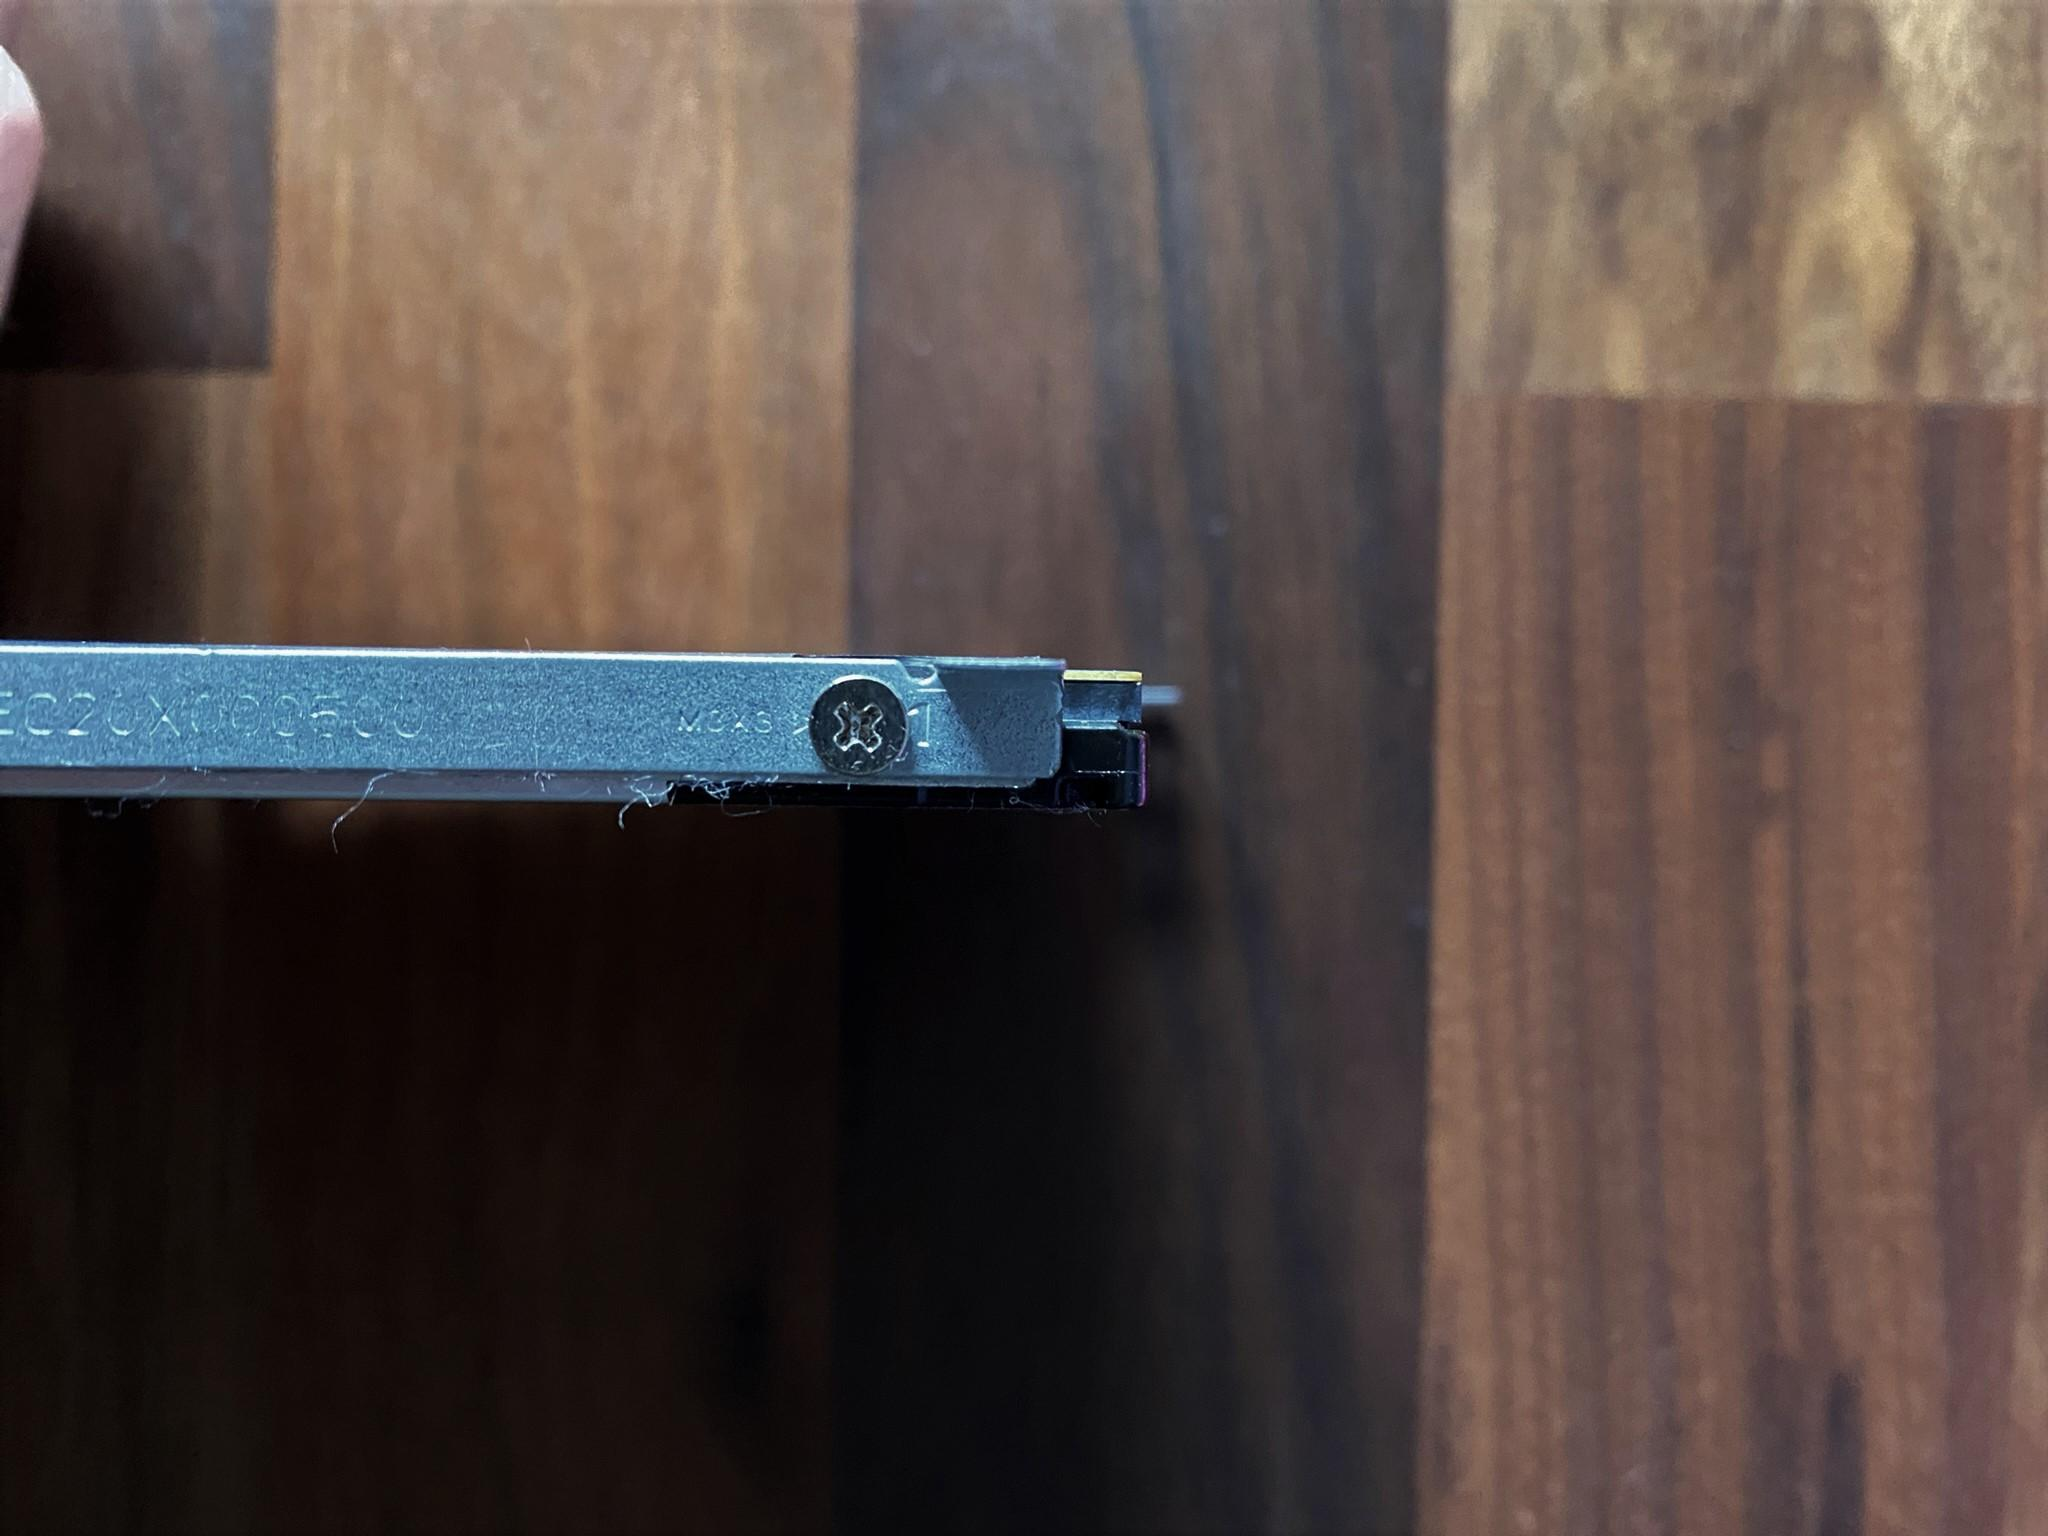PH: (808, 674, 908, 781)
